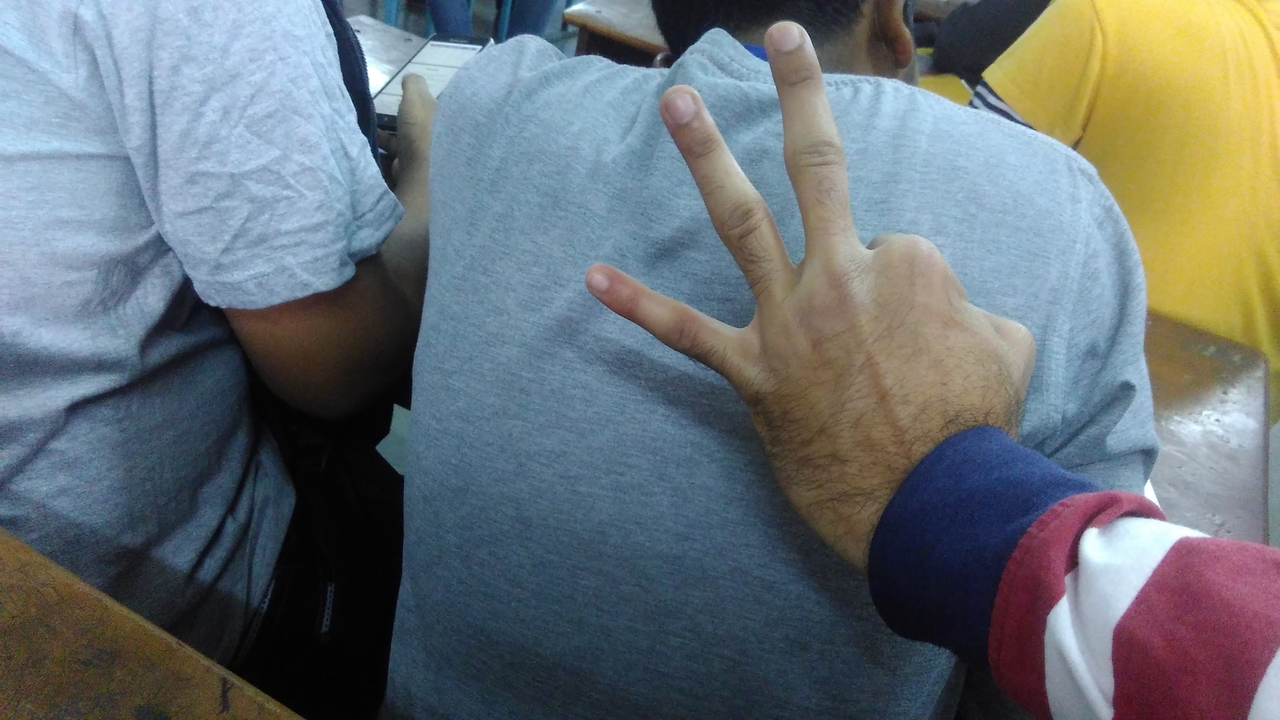fingertip: (762, 12, 824, 70), (578, 250, 640, 304), (656, 72, 712, 128)
